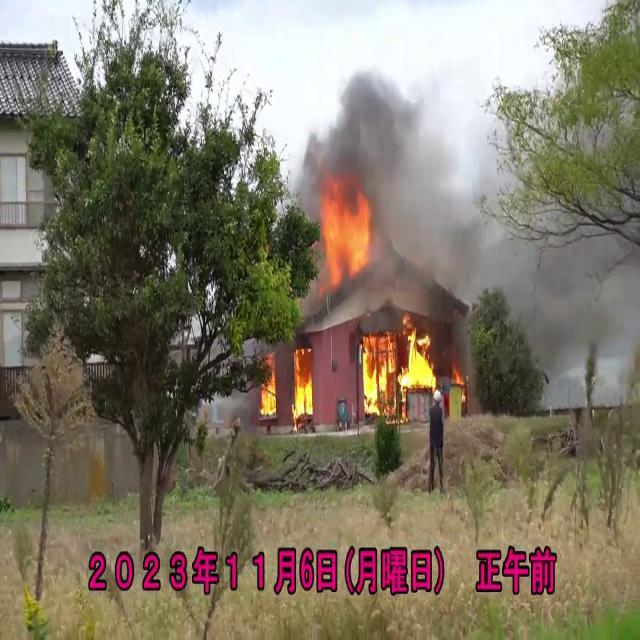Fire: (306, 174, 376, 294), (358, 316, 440, 414), (290, 344, 318, 424), (448, 362, 469, 417)
Smoke: (295, 38, 513, 308), (486, 202, 630, 394)
